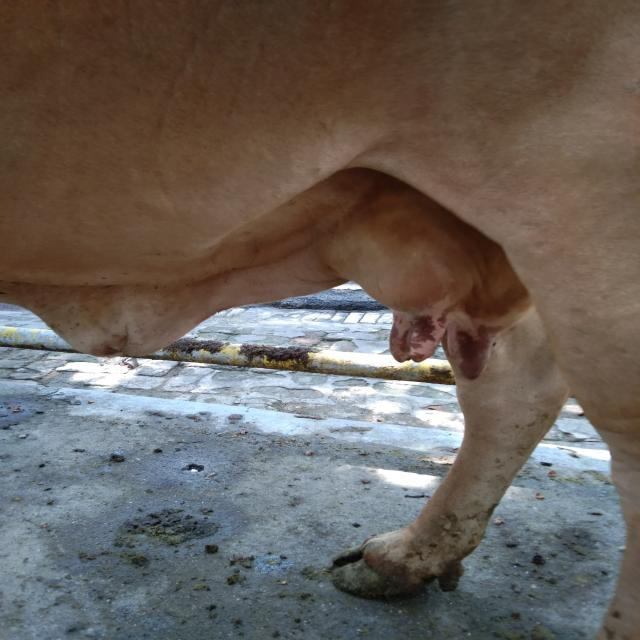Hoof: (330, 530, 464, 599)
